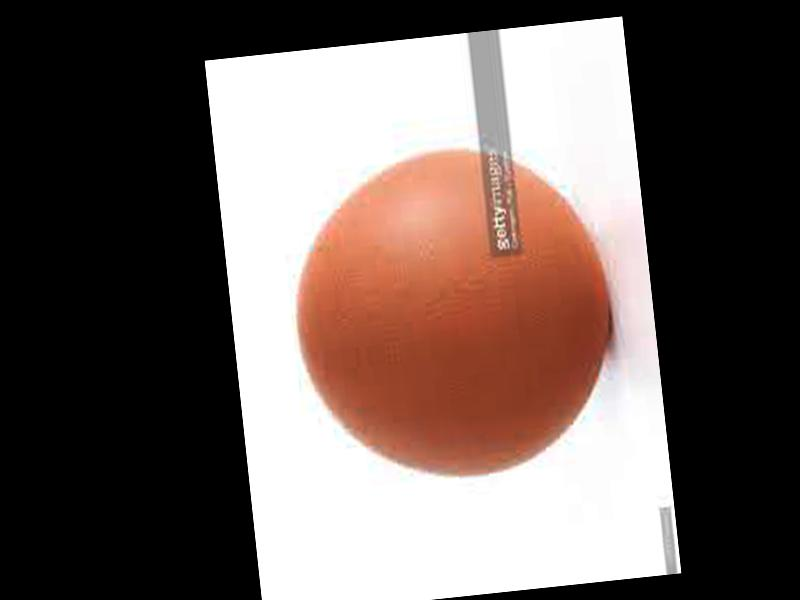Eggs: (280, 135, 618, 491)
